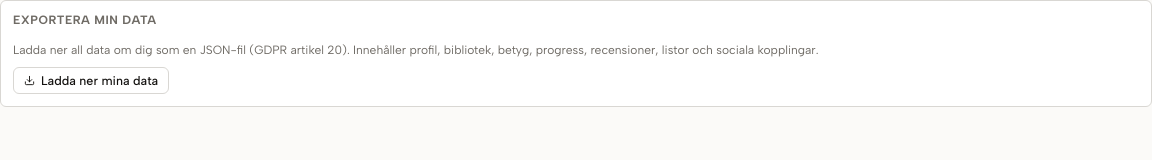
DataExportSection — the confirmation after an export (BIN-1380) › the notice goes away when the next export starts
Click the button "Ladda ner mina data" at (91, 80), box [13,67,169,94]
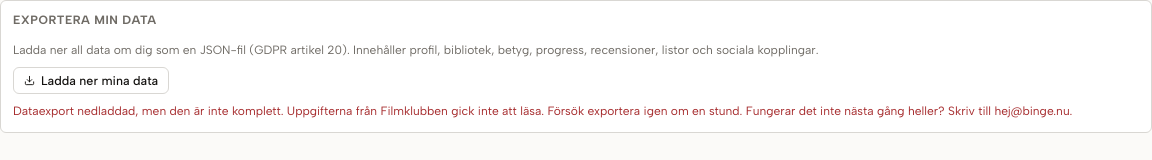
Now the message is shown, box [13,102,1139,120]
Click the button "Ladda ner mina data" at (91, 80), box [13,67,169,94]
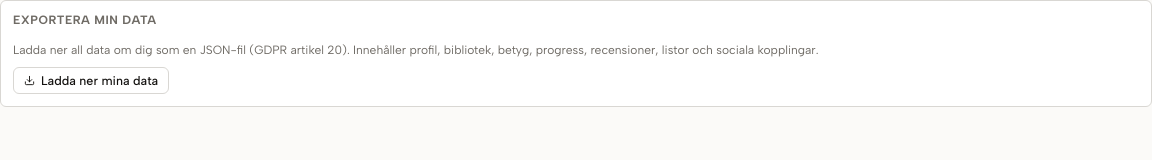
Now the message is gone
